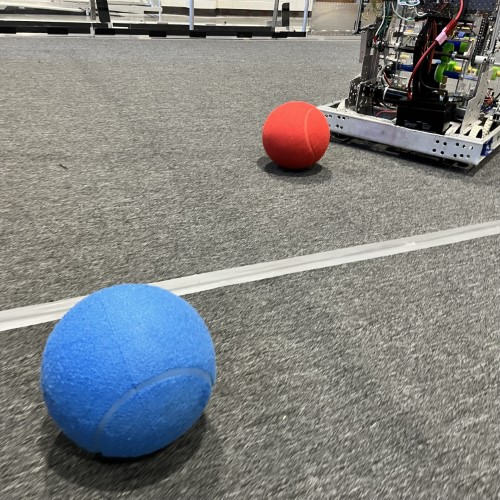blue: (38, 282, 219, 460)
red: (259, 98, 334, 174)
